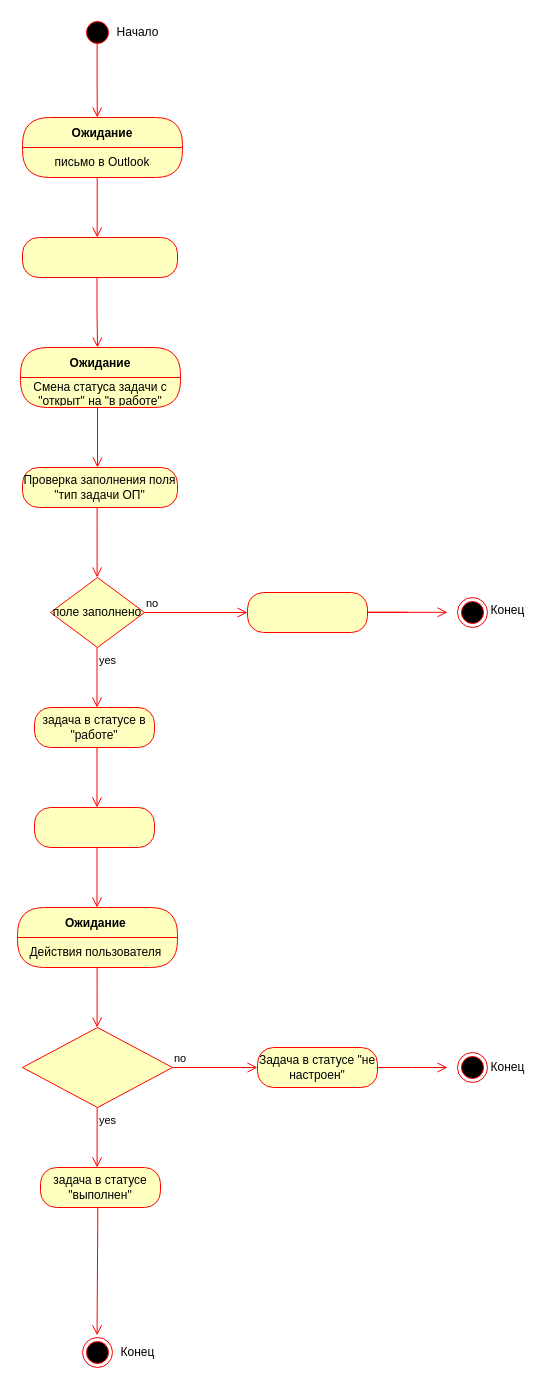
Image size: 555x1385. Some labels were removed from this diagram. Each missing label, with the centre of its shape:
"Действия выполнены успешно" belongs at (97,1067).
"Парсинг данных из описания в письме" belongs at (94,827).
"Создание новой задачи в системе управления проектами" belongs at (100,257).
"статус задачи не меняется" belongs at (307,612).
